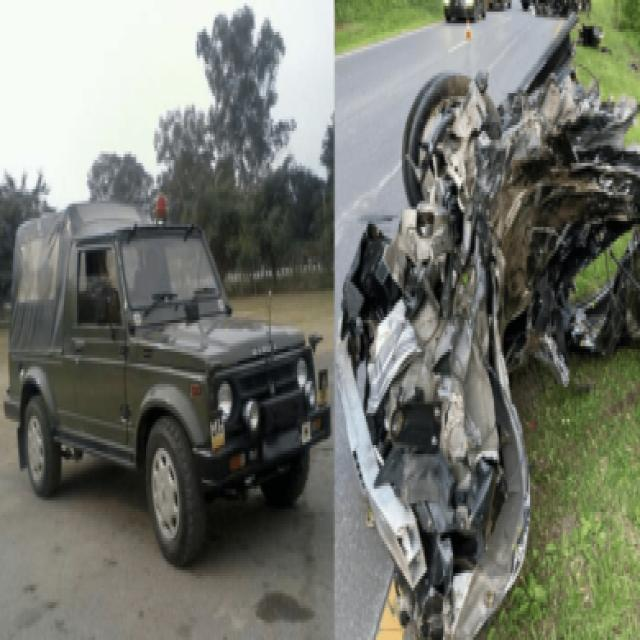accident: (341, 16, 640, 638)
car: (5, 204, 331, 564)
